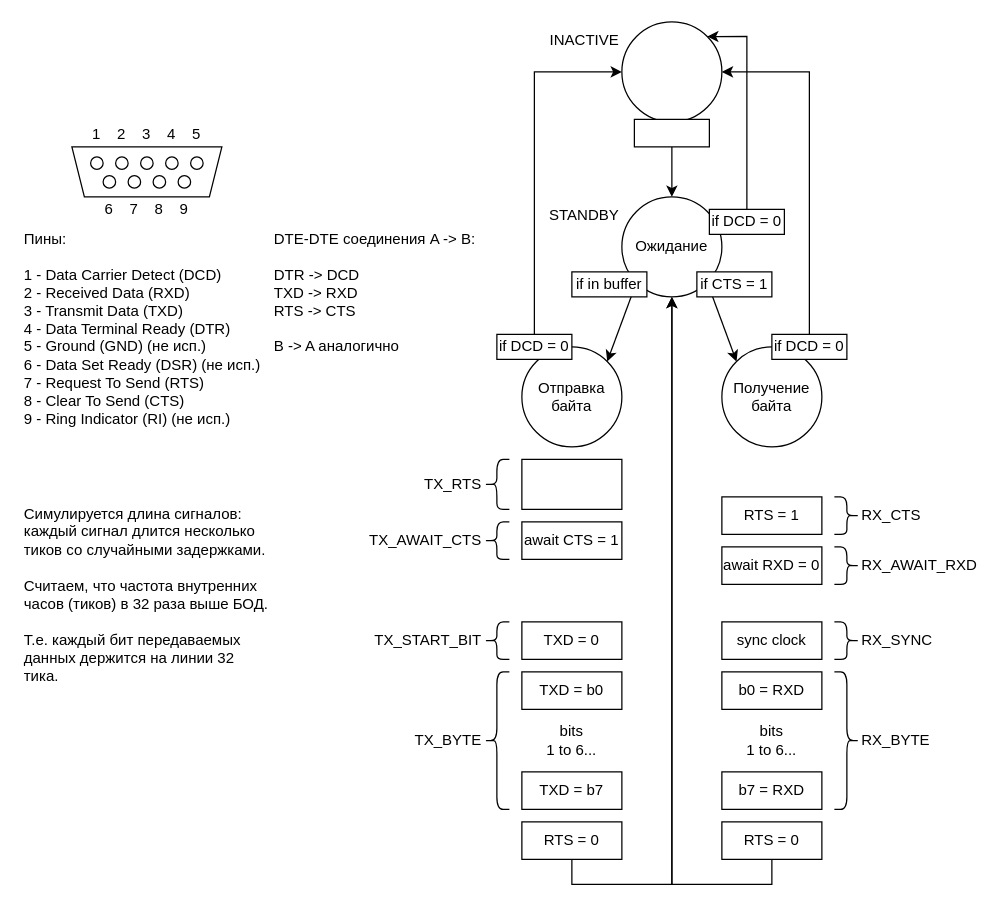
This 998x916 diagram has some shape labels left out. Here are the shapes that lost their labels. From the top down, the box of each, then its label:
(621, 21, 722, 122): Неактивен
(633, 118, 709, 147): if DCD = 1
(521, 458, 622, 509): TXD = 1 RTS = 1
